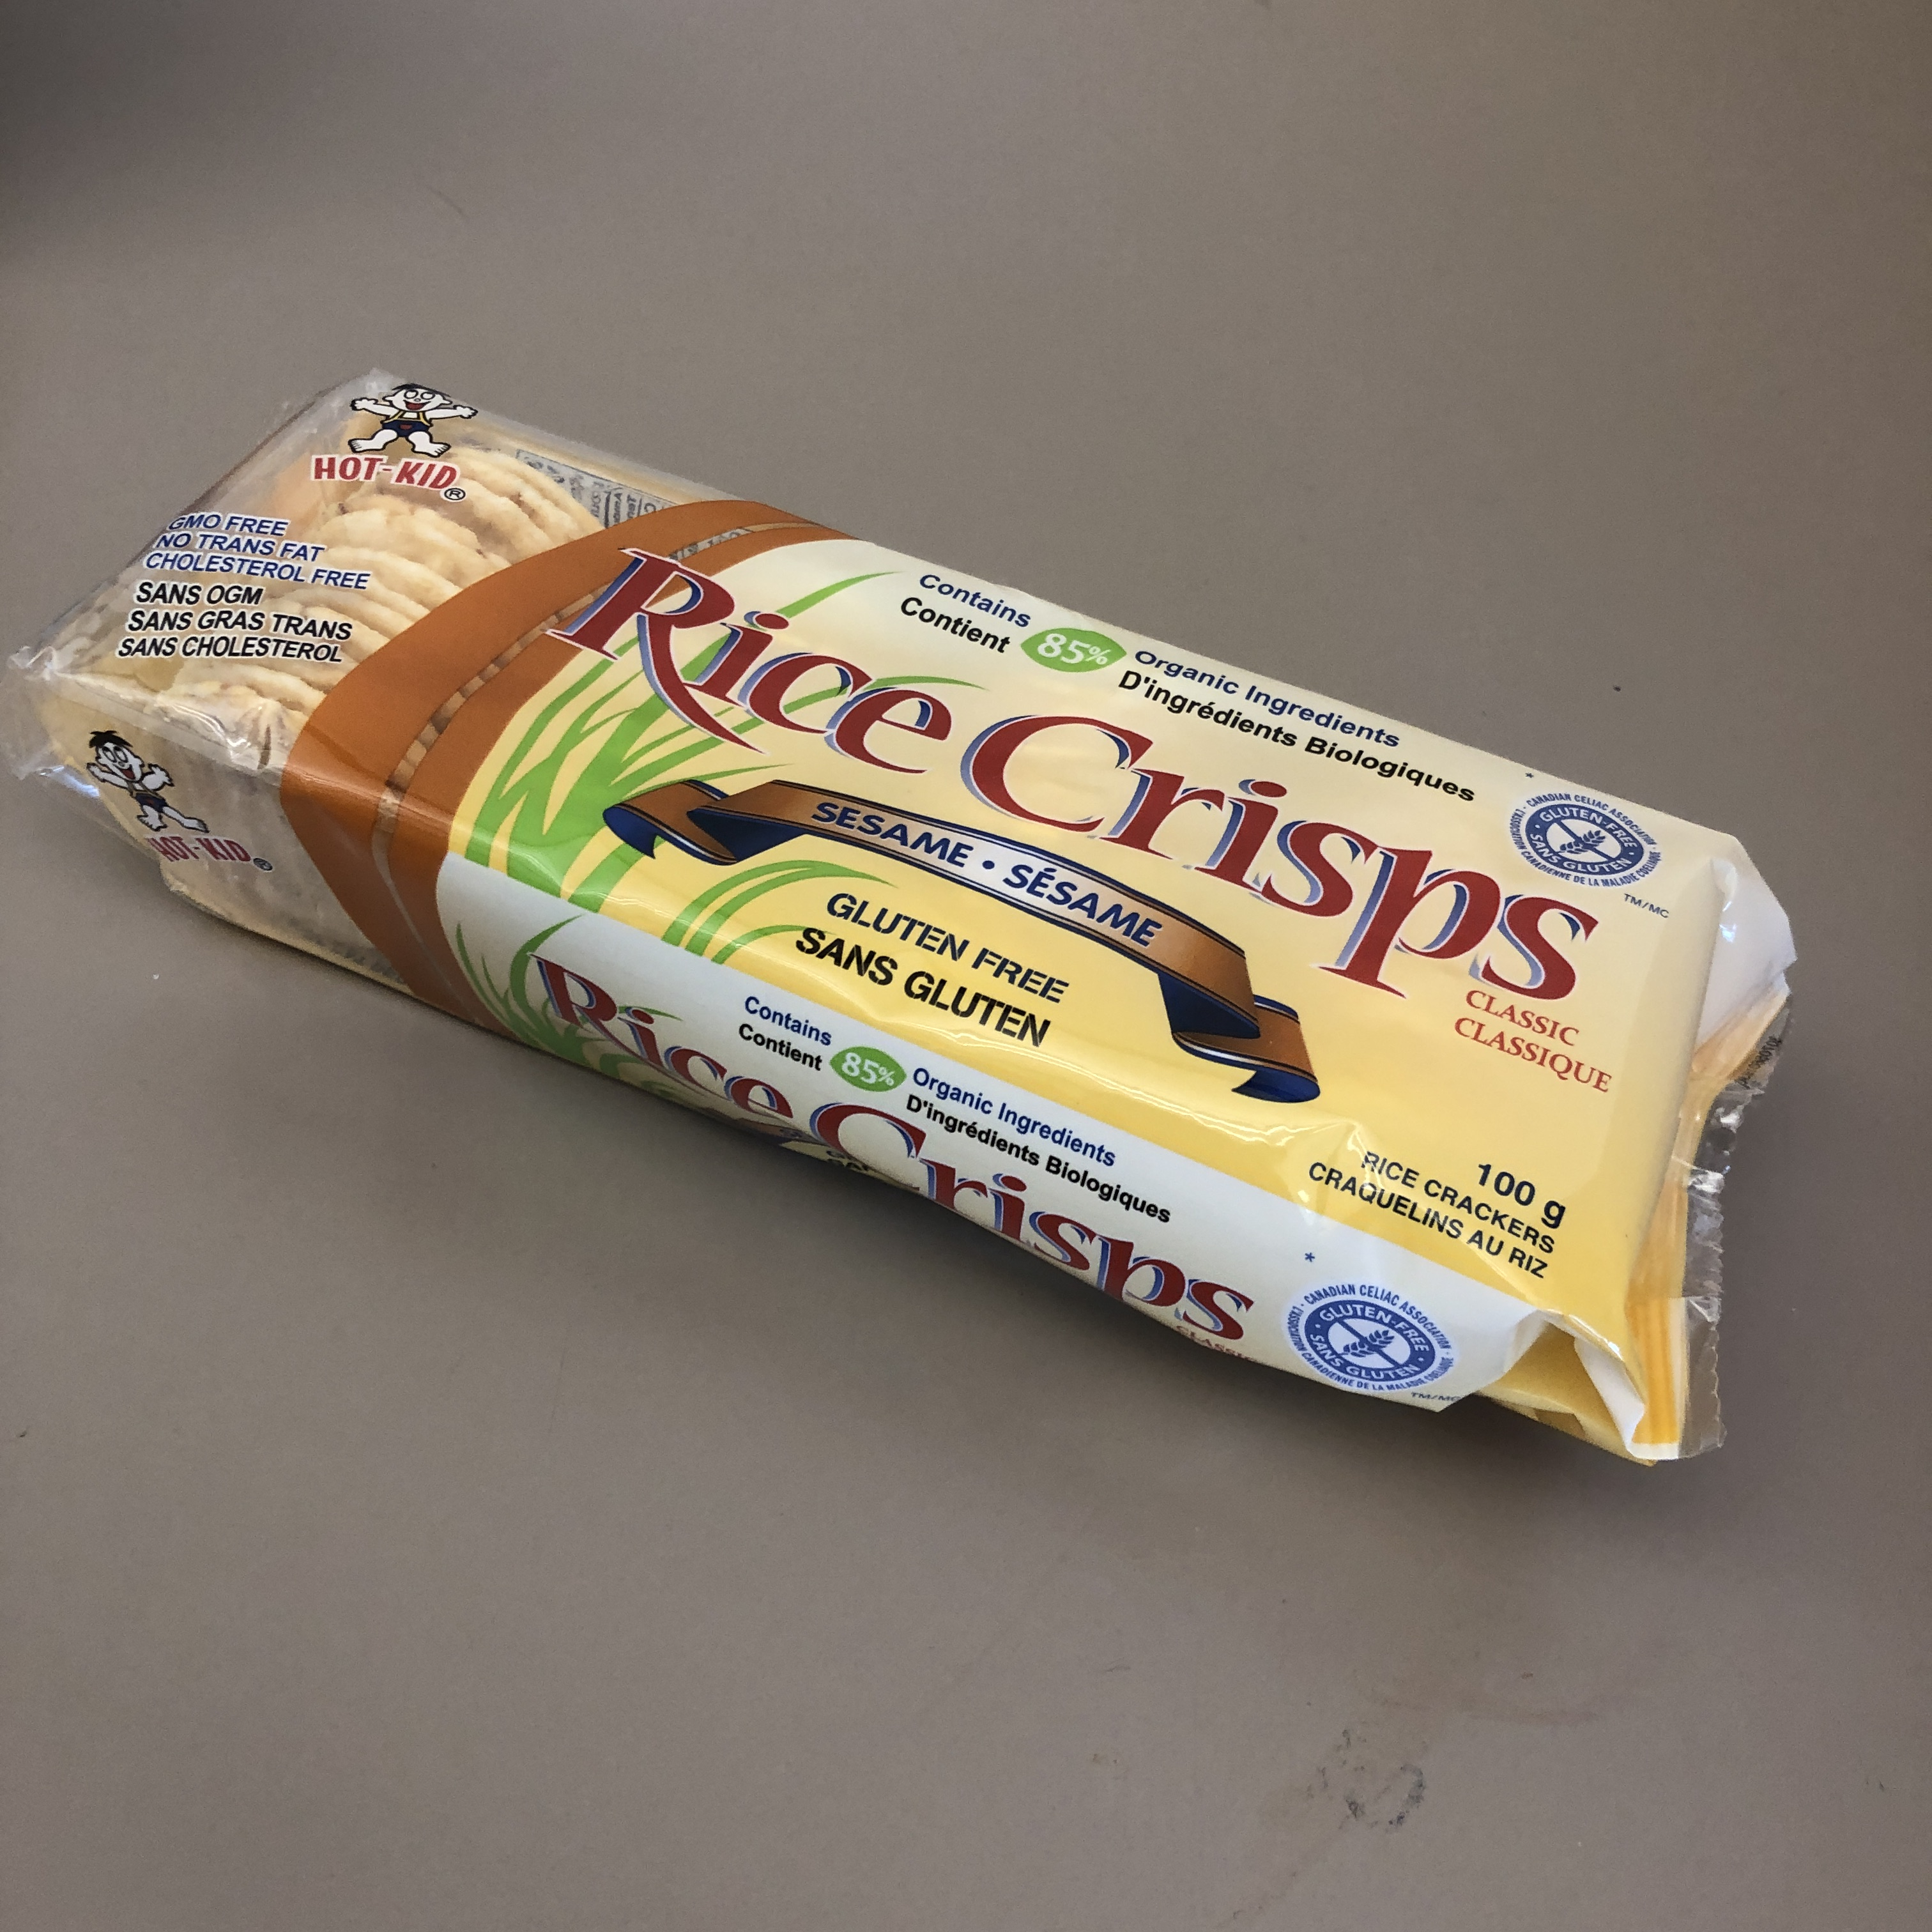hot_kid_rice_crisps_sesame: (503, 253, 1361, 1759)
